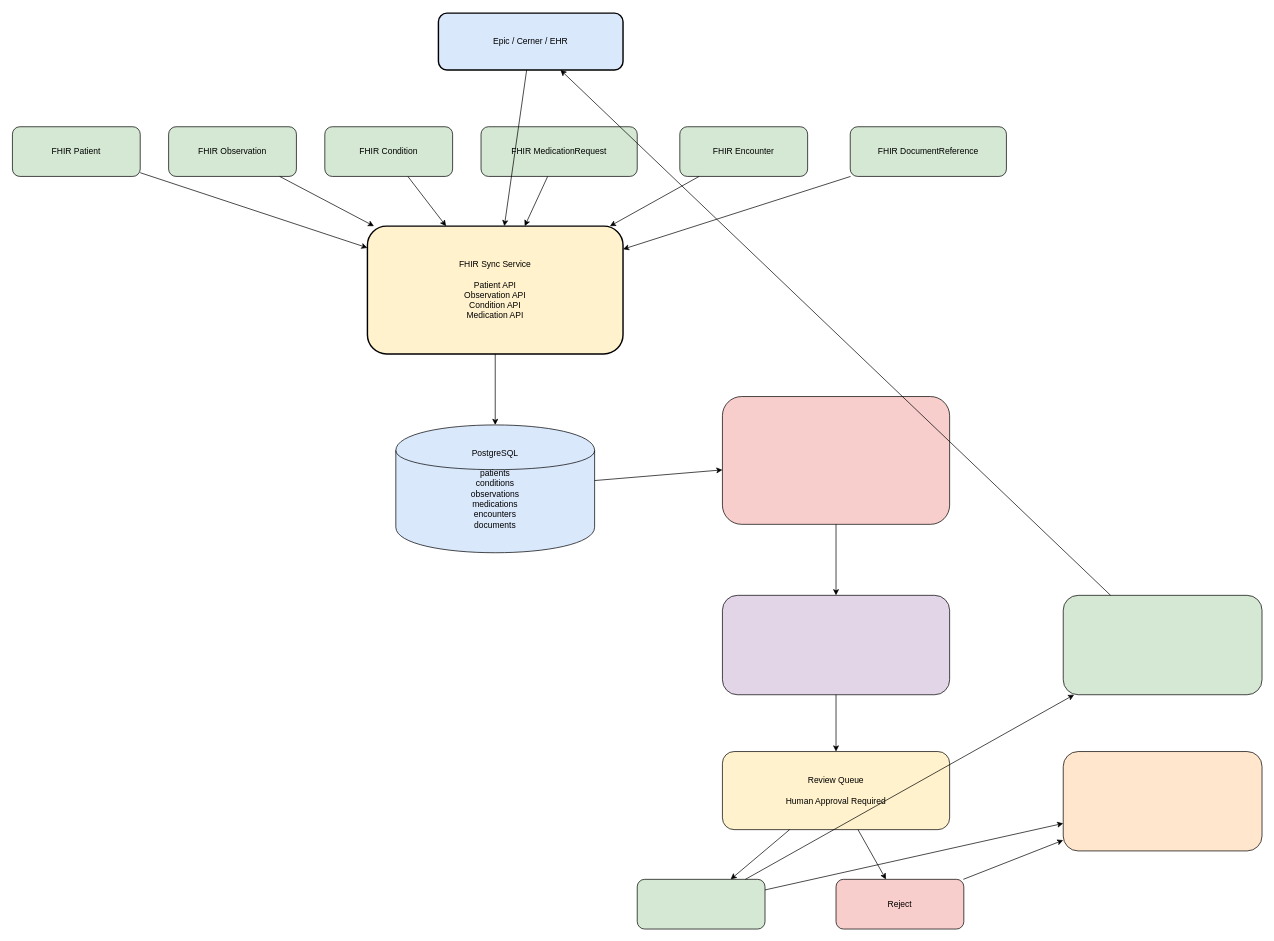
This 1274x941 diagram has some shape labels left out. Here are the shapes that lost their labels. From the top down, the centre of each, then its label:
At (836,460): "Patient Dashboard Patient Details Conditions Observations Medications Documents".
At (836,645): "Ollama Clinical Summary Recommendations Risk Assessment".
At (1162,645): "FHIR Writeback Task CarePlan DocumentReference".
At (1162,801): "Audit Logs FHIR Read Summary Generated Approved / Rejected".
At (701,904): "Approve".
